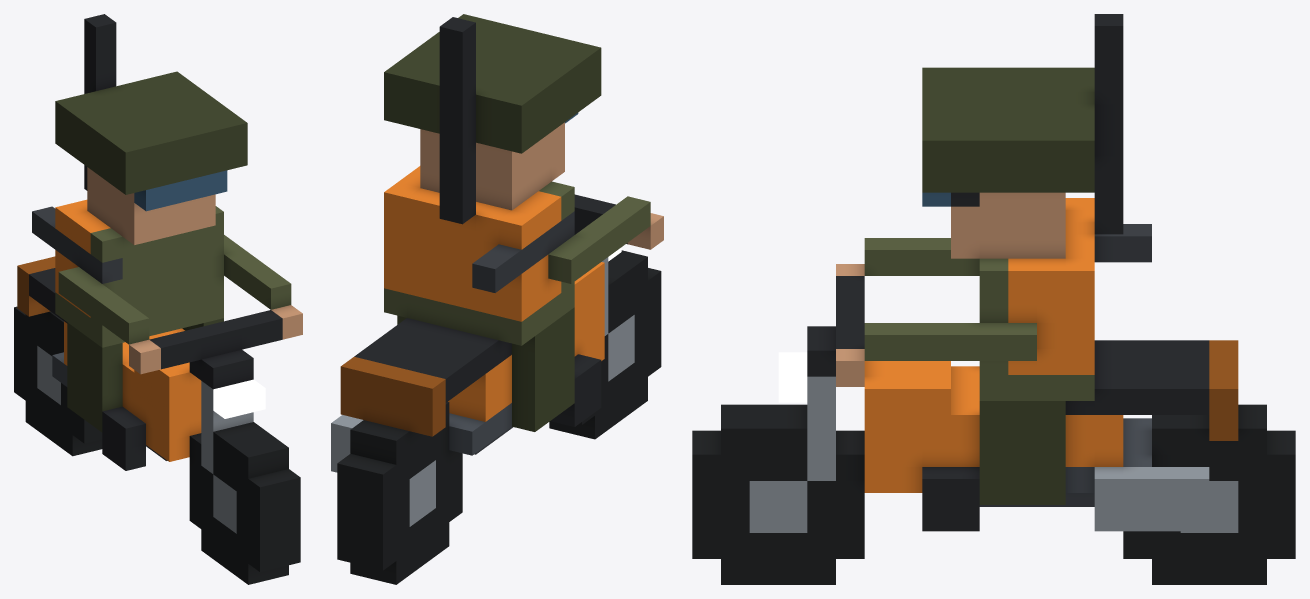
File: cm_scout_5.glb
The picture shows the model from 3 angles, left to right: view 1: azimuth 30°, elevation 25°; view 2: azimuth 150°, elevation 25°; view 3: azimuth 270°, elevation 25°; orthographic projection. The views are drawn at different scales.
Parts seen in each view (by area): view 1: cm_scout_5_body; view 2: cm_scout_5_body; view 3: cm_scout_5_body.
Part boxes in pixels (left/top/right/bottom): cm_scout_5_body: left=14, top=14, right=302, bottom=584; cm_scout_5_body: left=331, top=14, right=663, bottom=584; cm_scout_5_body: left=692, top=14, right=1295, bottom=584.
Size of the model in its own units: 0.5 by 1.31 by 1.31.
1 material, 1 textured.
